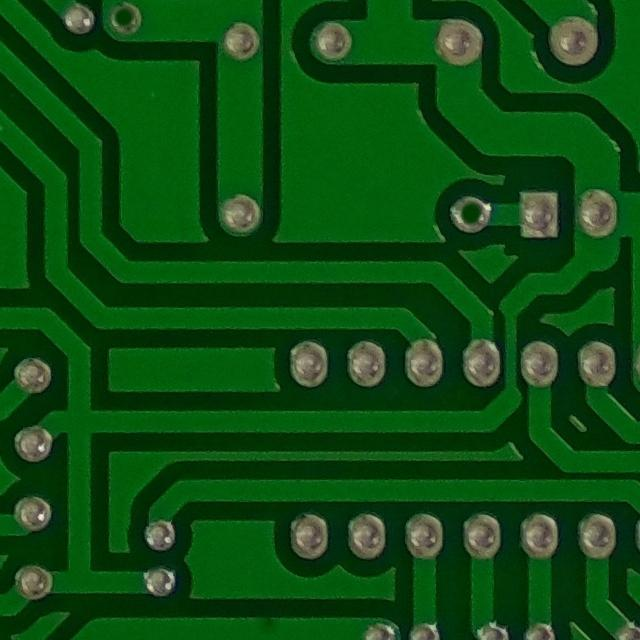missing_hole: (441, 185, 500, 243), (102, 0, 157, 43)
